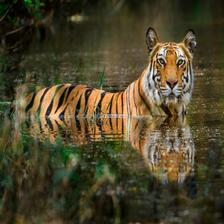tiger: (15, 26, 203, 135)
